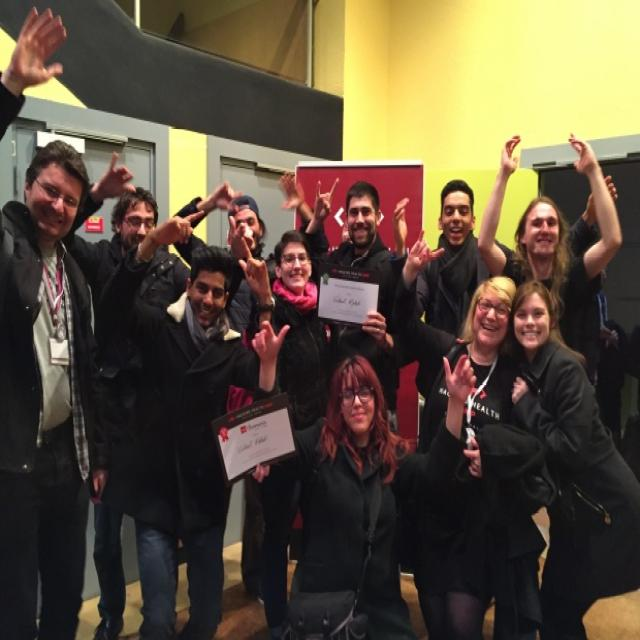body: (95, 206, 281, 638), (240, 315, 479, 639), (0, 1, 107, 638), (386, 227, 548, 639), (60, 148, 192, 640), (506, 278, 640, 640), (473, 131, 624, 345), (296, 176, 420, 421), (168, 170, 332, 342), (389, 172, 488, 336)
